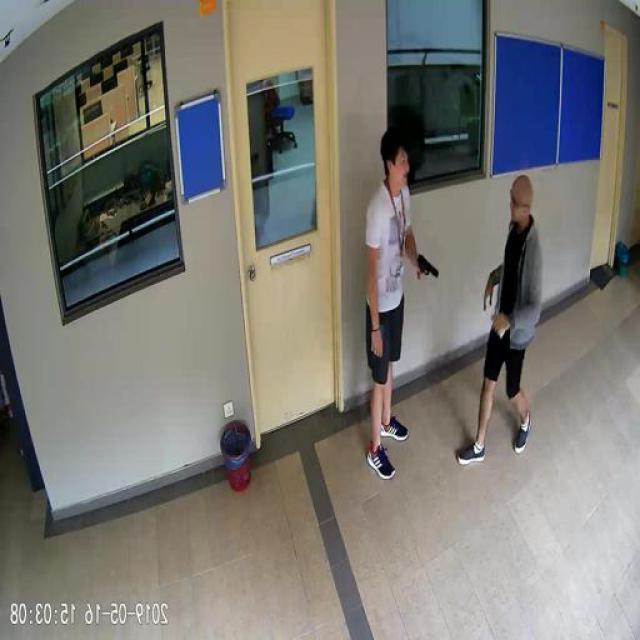weapon: (413, 251, 442, 282)
